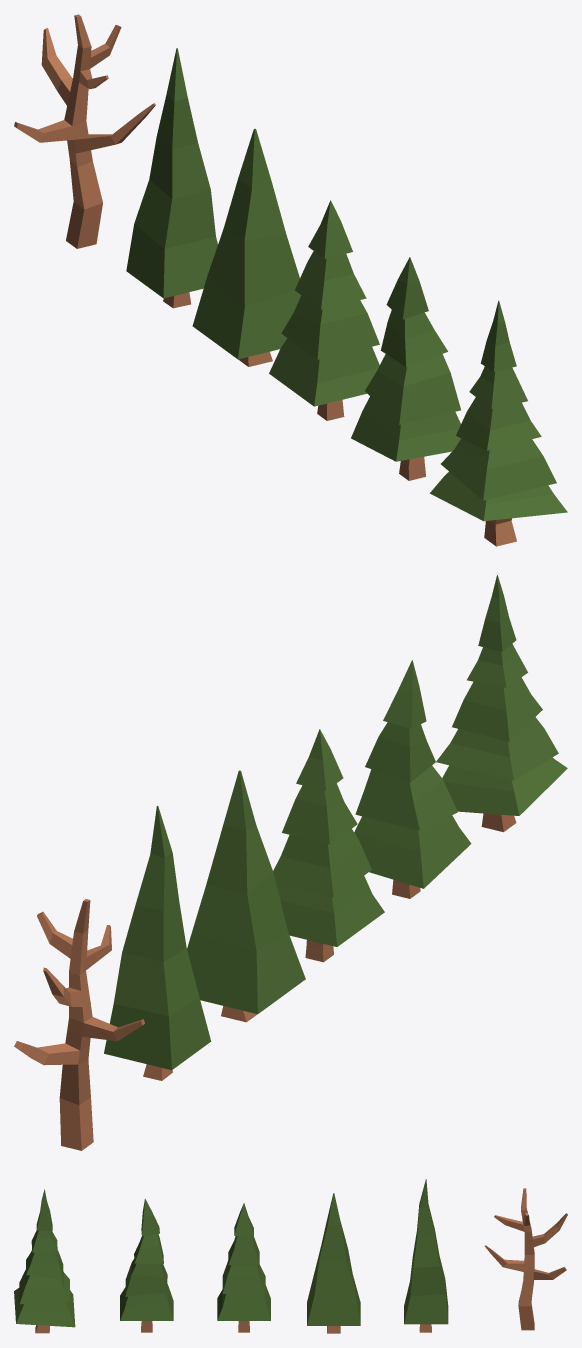
Rendered from Low_Poly_Trees_-_Free_Asset_Pack.glb.
The picture shows the model from 3 angles, top to bottom: view 1: azimuth 30°, elevation 25°; view 2: azimuth 150°, elevation 25°; view 3: azimuth 270°, elevation 25°; orthographic projection. The views are drawn at different scales.
Visible parts, largest first — view 1: Tree 1_0, Tree 4_0, Tree 2_0, Tree 3_0, Tree 5_0, Tree 6_0; view 2: Tree 4_0, Tree 1_0, Tree 5_0, Tree 2_0, Tree 3_0, Tree 6_0; view 3: Tree 1_0, Tree 4_0, Tree 3_0, Tree 2_0, Tree 5_0, Tree 6_0.
Part boxes in pixels (x1=…): Tree 1_0: x1=429, y1=300, x2=567, y2=546; Tree 4_0: x1=192, y1=128, x2=301, y2=366; Tree 2_0: x1=351, y1=257, x2=460, y2=480; Tree 3_0: x1=269, y1=200, x2=379, y2=420; Tree 5_0: x1=126, y1=48, x2=217, y2=308; Tree 6_0: x1=14, y1=14, x2=155, y2=248; Tree 4_0: x1=187, y1=770, x2=305, y2=1022; Tree 1_0: x1=436, y1=575, x2=567, y2=832; Tree 5_0: x1=104, y1=806, x2=211, y2=1080; Tree 2_0: x1=354, y1=660, x2=471, y2=898; Tree 3_0: x1=273, y1=729, x2=384, y2=962; Tree 6_0: x1=14, y1=899, x2=144, y2=1150; Tree 1_0: x1=14, y1=1189, x2=75, y2=1333; Tree 4_0: x1=307, y1=1193, x2=360, y2=1333; Tree 3_0: x1=217, y1=1203, x2=270, y2=1332; Tree 2_0: x1=120, y1=1198, x2=173, y2=1332; Tree 5_0: x1=404, y1=1179, x2=448, y2=1332; Tree 6_0: x1=484, y1=1188, x2=567, y2=1330.
Bounding box in the file's own units: 3.67 × 7.47 × 24.83.
Materials: 1 (1 with a texture image).
